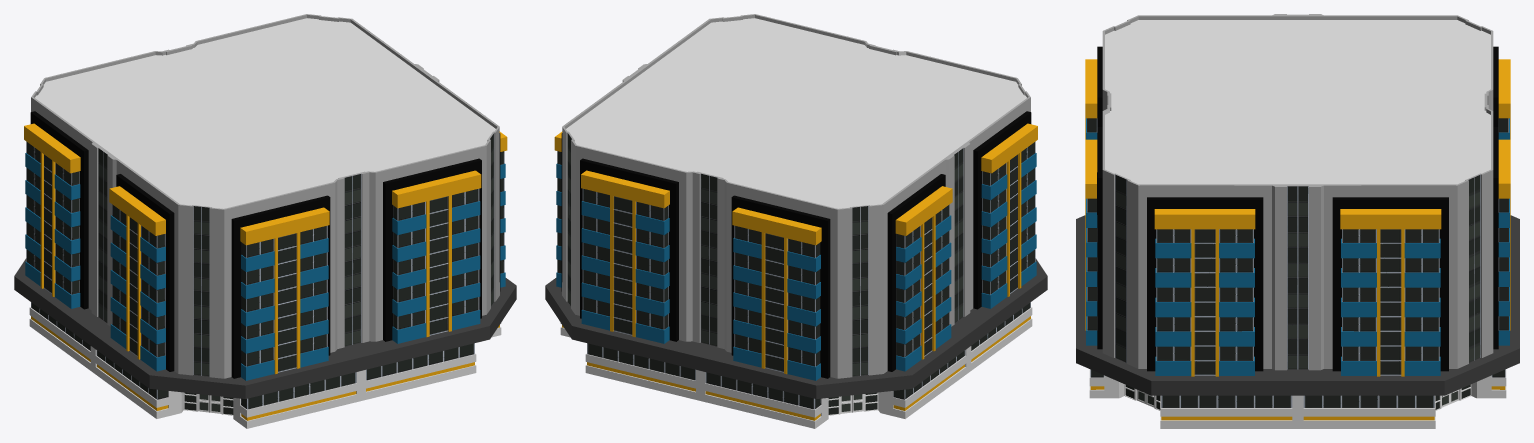
The picture shows the model from 3 angles, left to right: view 1: azimuth 30°, elevation 25°; view 2: azimuth 150°, elevation 25°; view 3: azimuth 270°, elevation 25°; orthographic projection. The views are drawn at different scales.
Visible parts, largest first — view 1: QD-01; view 2: QD-01; view 3: QD-01.
Boxes of the visible parts, x1=… form: QD-01: x1=14, y1=14, x2=516, y2=428; QD-01: x1=545, y1=14, x2=1047, y2=428; QD-01: x1=1076, y1=14, x2=1519, y2=428.
Size of what is drawn, in the model's own units: 42.47 by 24.18 by 40.97.
